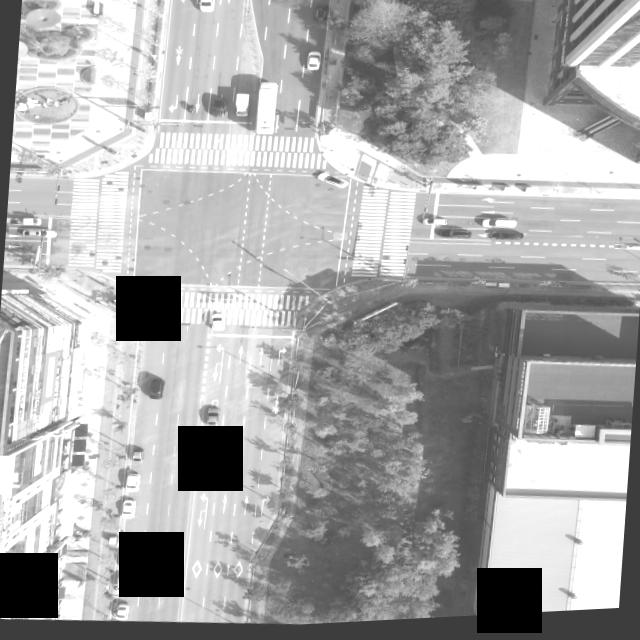car: (316, 172, 349, 193), (484, 233, 522, 245), (20, 227, 56, 239), (482, 222, 518, 234), (150, 377, 167, 399), (121, 497, 138, 519), (438, 232, 472, 243), (206, 405, 220, 427), (117, 574, 132, 594), (126, 471, 140, 492), (130, 444, 146, 462), (120, 549, 135, 568), (306, 52, 320, 72), (210, 315, 226, 332), (200, 465, 214, 484), (116, 602, 130, 621), (212, 97, 227, 114), (421, 220, 445, 230), (314, 9, 326, 25), (199, 0, 214, 12)
medium_truck: (250, 80, 280, 138)
small_truck: (5, 214, 42, 226), (233, 93, 250, 116)
